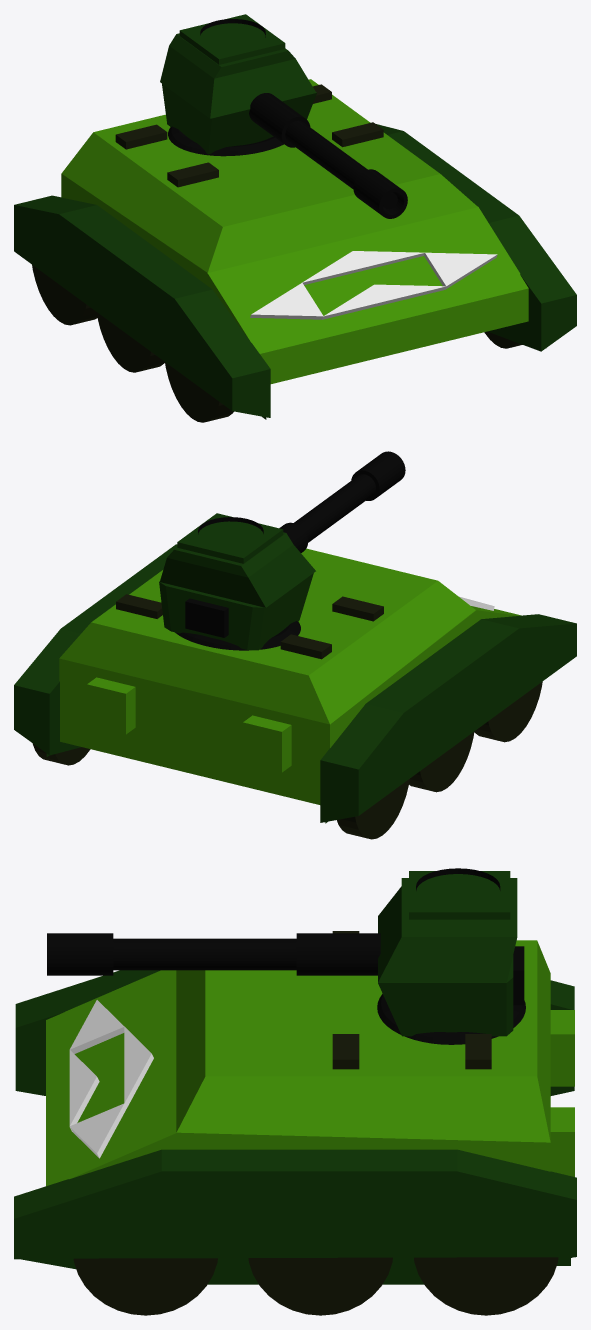
The model's file is PlayerTank.fbx.
3 views of the same model, one above another, from view 1: azimuth 30°, elevation 25°; view 2: azimuth 150°, elevation 25°; view 3: azimuth 270°, elevation 25° (orthographic). The views are drawn at different scales.
Parts seen in each view (by area): view 1: Cube.003, Cube.001, Cube.002; view 2: Cube.003, Cube.001, Cube.002; view 3: Cube.003, Cube.001, Cube.002.
Boxes of the visible parts, <box> form: Cube.003: <box>14,79,576,422</box>; Cube.001: <box>160,14,316,154</box>; Cube.002: <box>249,93,407,218</box>; Cube.003: <box>14,544,576,839</box>; Cube.001: <box>159,513,315,650</box>; Cube.002: <box>279,451,405,552</box>; Cube.003: <box>14,931,576,1315</box>; Cube.001: <box>378,868,524,1036</box>; Cube.002: <box>47,933,380,975</box>.
Bounding box in the file's own units: 790 × 564 × 874.
